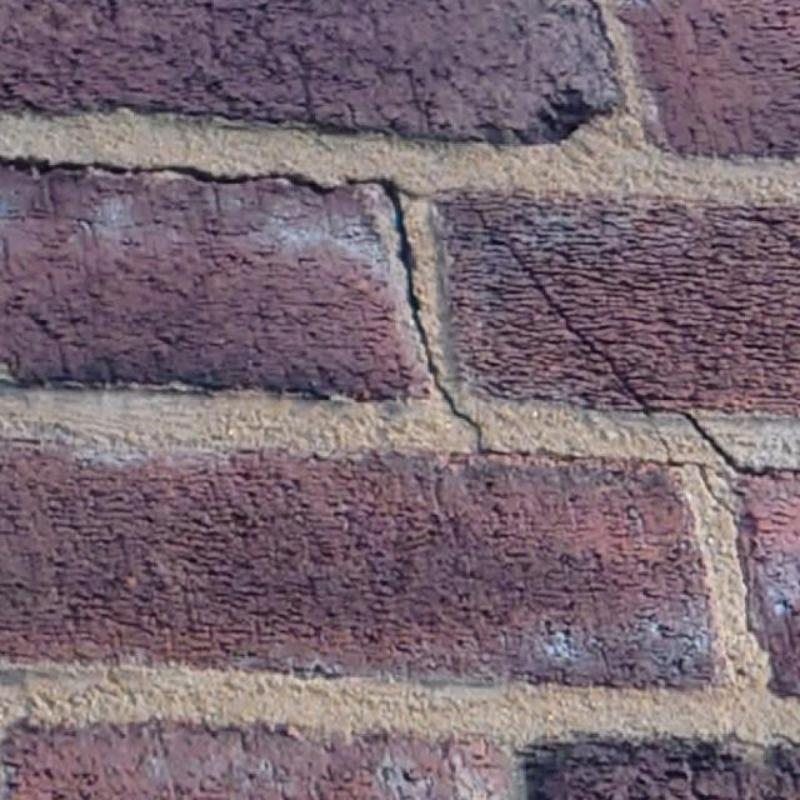pothole: (0, 154, 484, 455), (462, 202, 799, 479), (654, 428, 740, 516)
